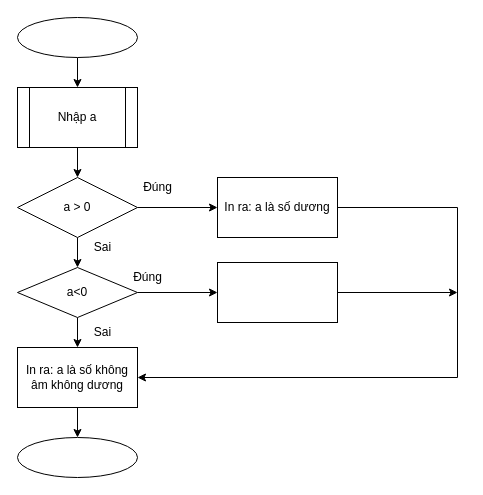
This 483x495 diagram has some shape labels left out. Each missing label, with the centre of its shape:
"Bắt đầu" goes at point 77,37.
"In ra: a là số âm" goes at point 277,292.
"Kết thúc" goes at point 77,457.
